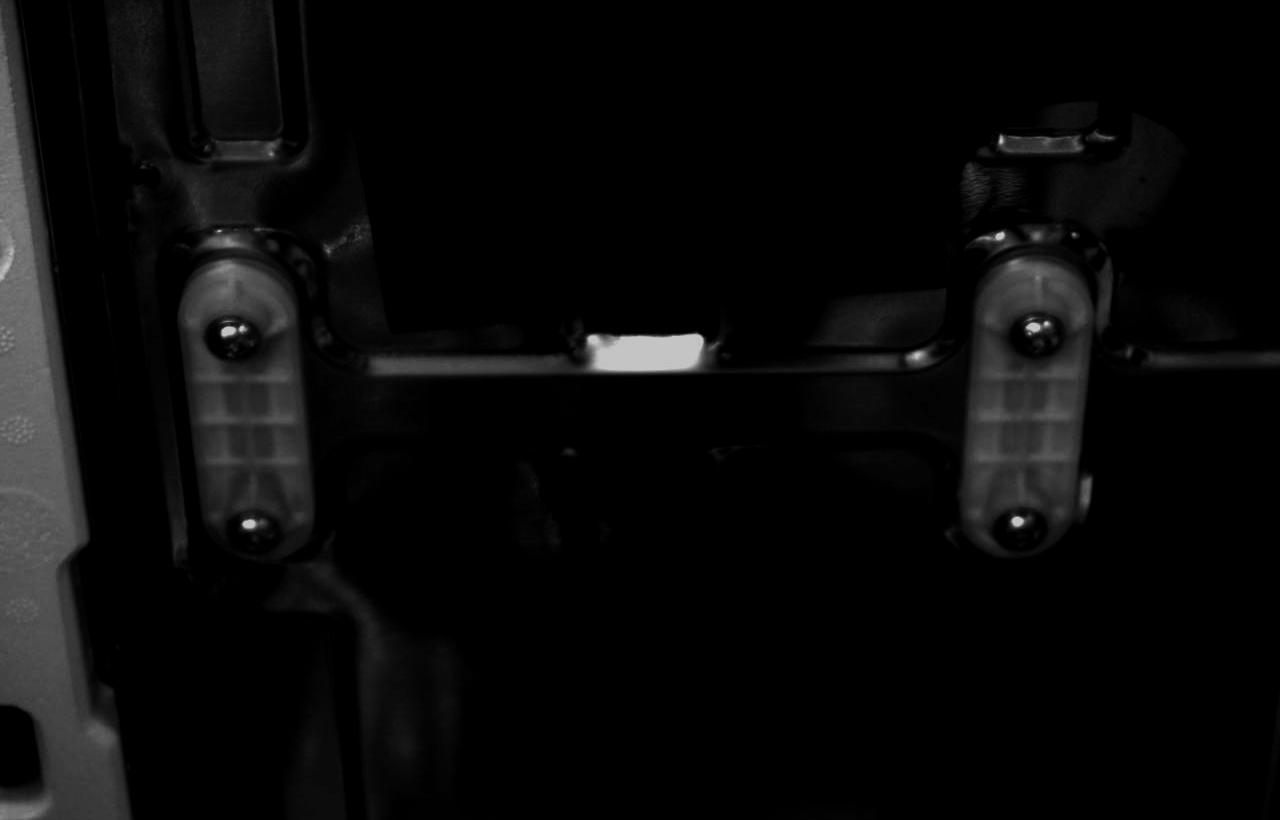vida-ok: (207, 311, 294, 388), (1006, 312, 1094, 385), (223, 507, 304, 572), (993, 506, 1069, 565)
